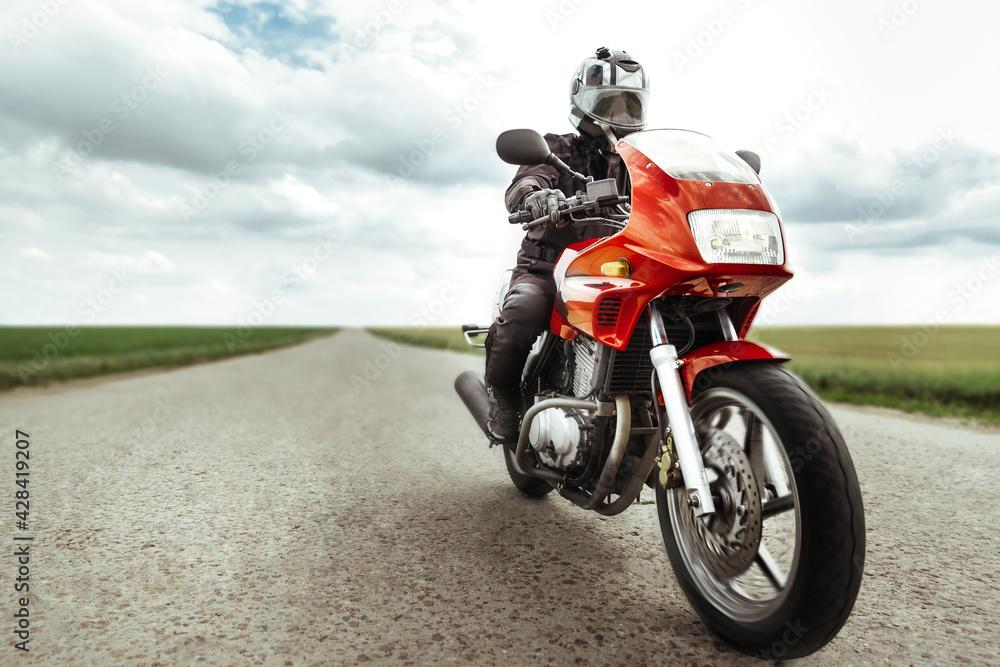helmet: (567, 45, 652, 156)
